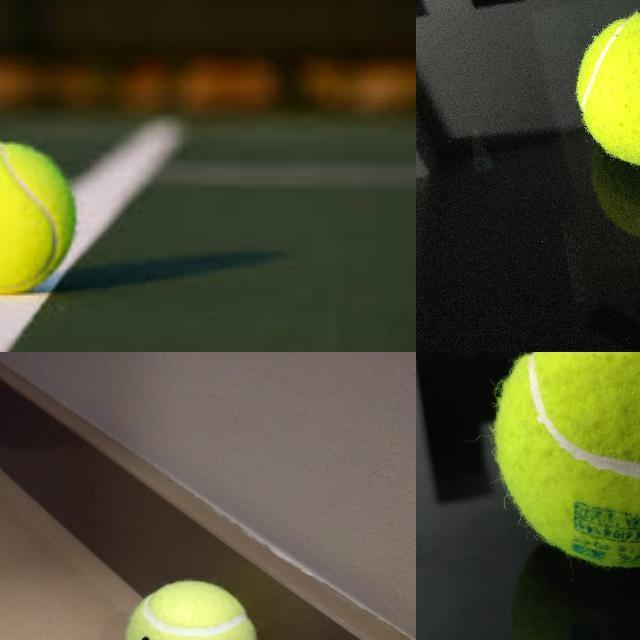tennis-ball: (493, 352, 639, 570), (0, 135, 78, 298), (573, 8, 639, 169), (123, 578, 259, 639)
